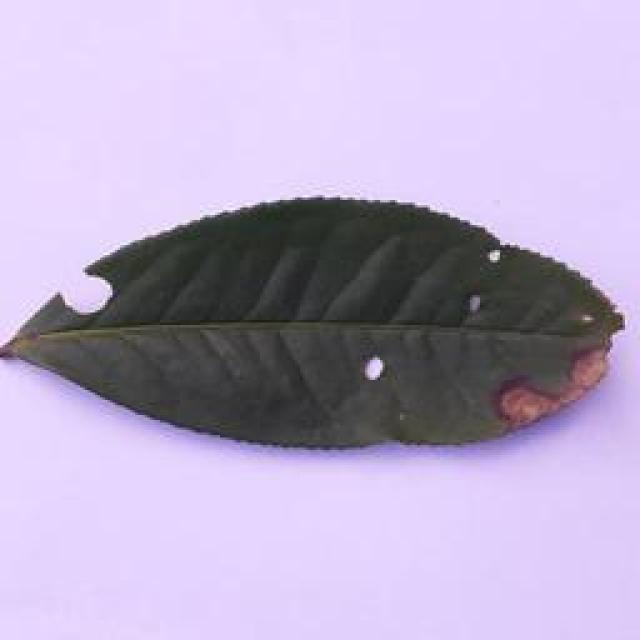Gray Blight: (0, 188, 622, 456)
